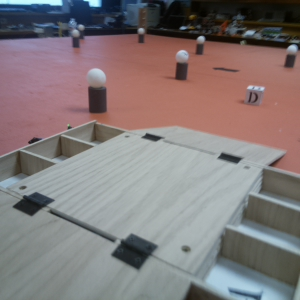blockD: (245, 83, 263, 106)
corner: (139, 8, 146, 27)
obstacle: (87, 69, 109, 112), (176, 50, 188, 78), (283, 44, 296, 69), (71, 30, 80, 47), (196, 36, 204, 54), (138, 28, 144, 41)
side: (188, 165, 300, 297), (1, 123, 127, 183)
slope: (125, 118, 288, 168)
start: (213, 64, 239, 75)
